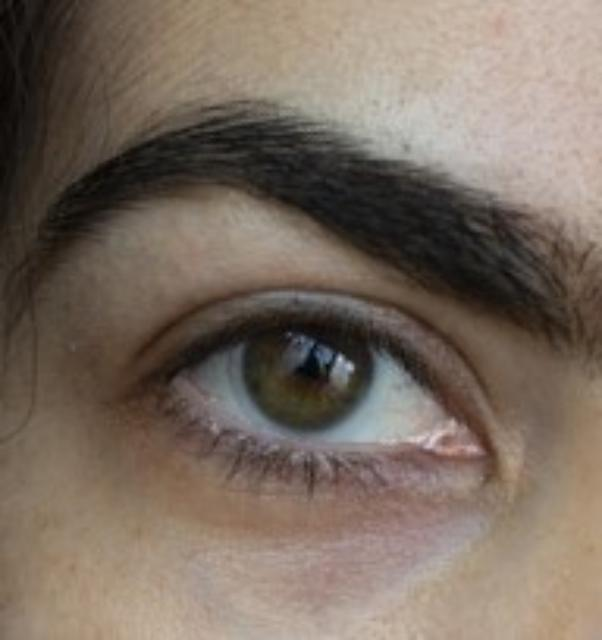eye: (242, 312, 370, 428)
